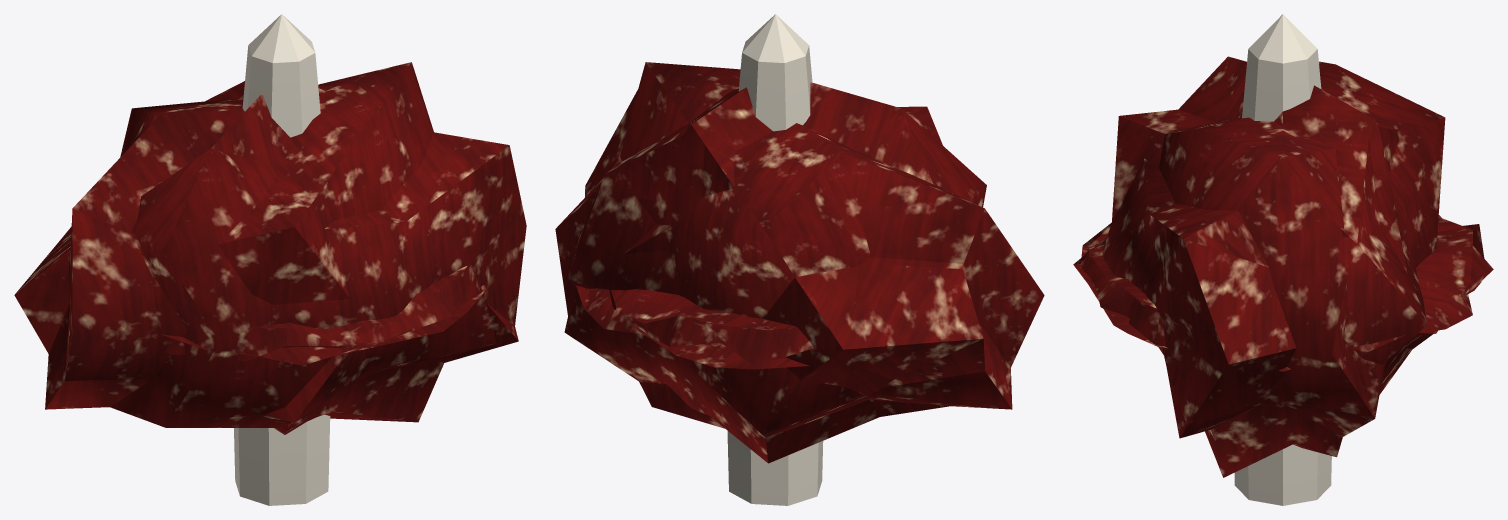
File: gore.glb
3 views of the same model, side by side, from view 1: azimuth 30°, elevation 25°; view 2: azimuth 150°, elevation 25°; view 3: azimuth 270°, elevation 25° (orthographic).
Visible parts, largest first — view 1: gib_1, gib_3, gib_0, gib_2, stump_neck, stump_limb; view 2: gib_1, gib_0, gib_3, gib_2, stump_neck, stump_limb; view 3: gib_1, gib_3, gib_0, stump_neck, gib_2, stump_limb.
Part boxes in pixels (x1,y1,x2,y2): gib_1: (64, 62, 443, 422); gib_3: (234, 14, 526, 505); gib_0: (14, 81, 518, 434); gib_2: (45, 175, 350, 425); stump_neck: (165, 265, 482, 361); stump_limb: (162, 285, 486, 365); gib_1: (555, 62, 1044, 463); gib_0: (567, 82, 986, 428); gib_3: (585, 14, 896, 505); gib_2: (564, 106, 1012, 437); stump_neck: (576, 285, 814, 366); stump_limb: (586, 275, 809, 369); gib_1: (1159, 61, 1445, 477); gib_3: (1102, 14, 1407, 505); gib_0: (1166, 56, 1426, 457); stump_neck: (1080, 215, 1493, 351); gib_2: (1112, 109, 1432, 436); stump_limb: (1073, 224, 1484, 371).
Bounding box in the file's own units: 2.73 × 2.7 × 2.18.
4 materials, 1 textured.
